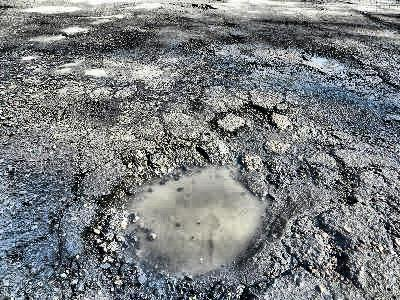pothole: (80, 132, 323, 298), (207, 100, 280, 131)
